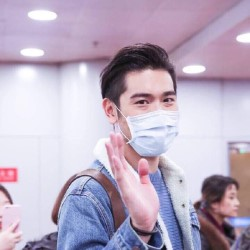mask: (113, 102, 185, 157)
